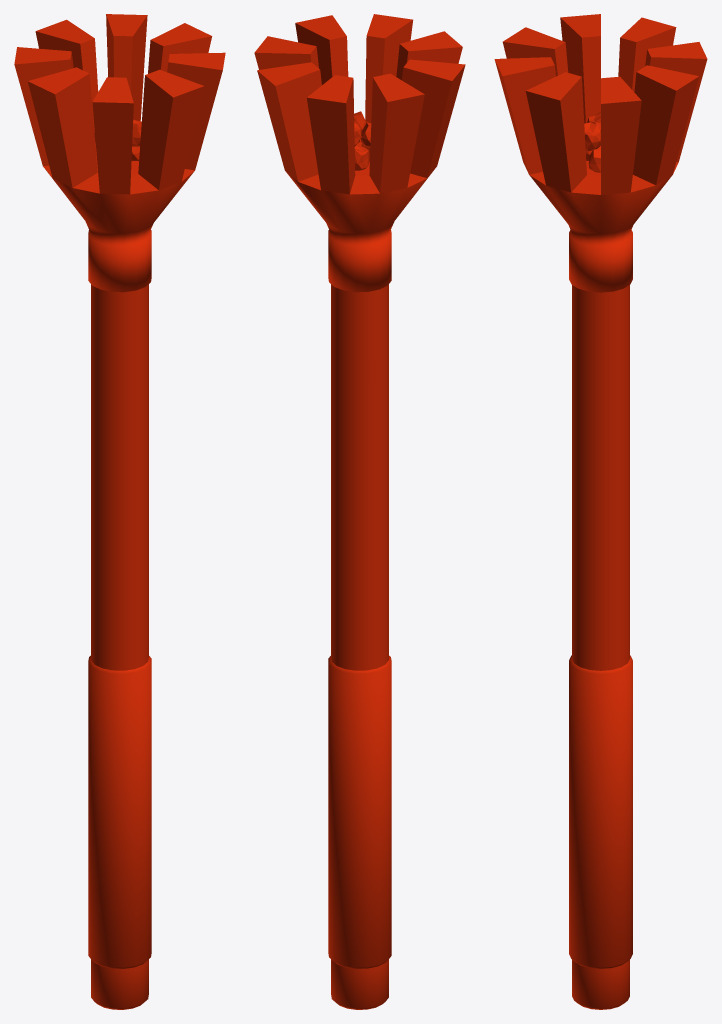
File: torch.fbx
3 renders of one model, left to right at view 1: azimuth 30°, elevation 25°; view 2: azimuth 150°, elevation 25°; view 3: azimuth 270°, elevation 25°, orthographic.
Visible parts, largest first — view 1: torch; view 2: torch; view 3: torch.
Part boxes in pixels (x1,y1,x2,y2): torch: (14, 14, 225, 1009); torch: (254, 14, 465, 1009); torch: (494, 14, 707, 1009).
Size of the model in its own units: 1.14 by 5.56 by 1.14.
